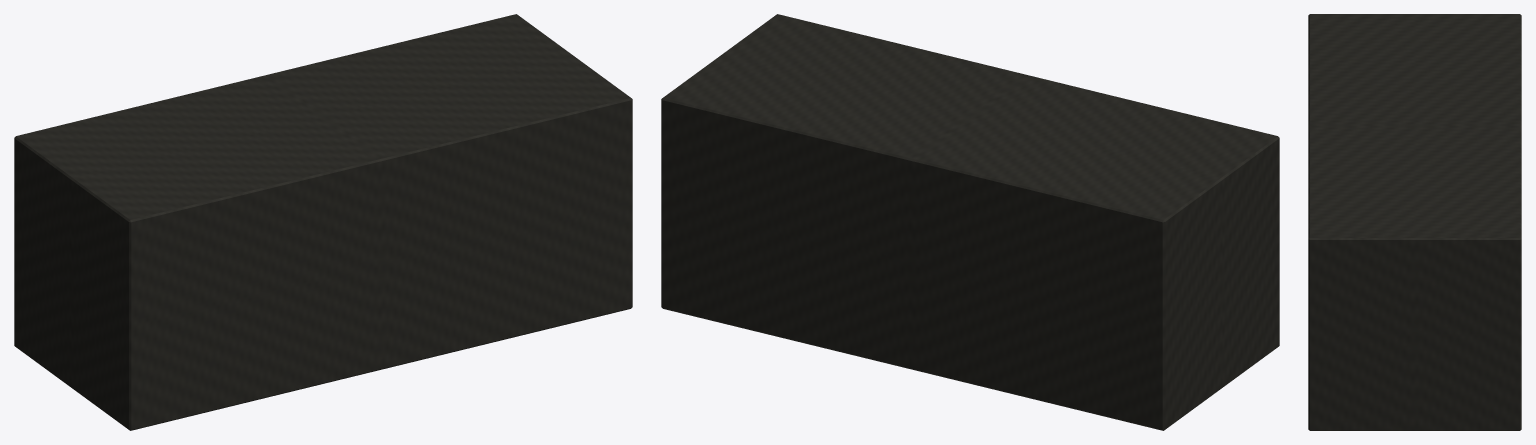
The model's file is half_beam_solid.glb.
3 renders of one model, left to right at view 1: azimuth 30°, elevation 25°; view 2: azimuth 150°, elevation 25°; view 3: azimuth 270°, elevation 25°, orthographic. The views are drawn at different scales.
Visible parts, largest first — view 1: half_beam_solid; view 2: half_beam_solid; view 3: half_beam_solid.
Part boxes in pixels (x1=…): half_beam_solid: x1=14, y1=14, x2=632, y2=430; half_beam_solid: x1=661, y1=14, x2=1279, y2=430; half_beam_solid: x1=1308, y1=14, x2=1521, y2=430.
Bounding box in the file's own units: 0.5 × 0.2 × 0.2.
1 material, 1 textured.
